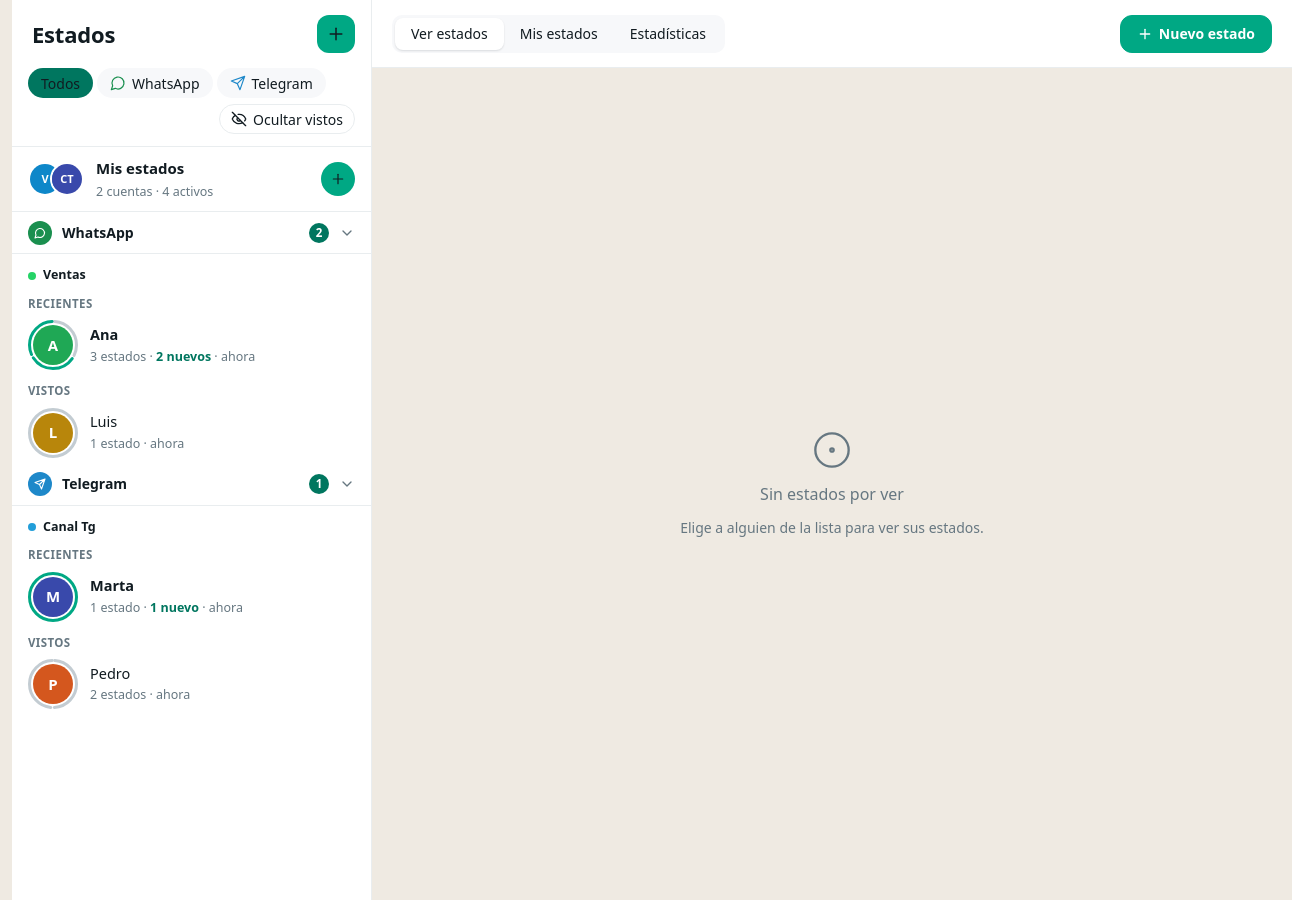
StatusesPage · lista por canal y cuenta › plegar un canal oculta a sus autores y lo anuncia con aria-expanded
Expected: the text "Ana" is shown, [90,324,118,344]
Click the button "WhatsApp 2". click: click(98, 232)
box: [12,212,371,254]
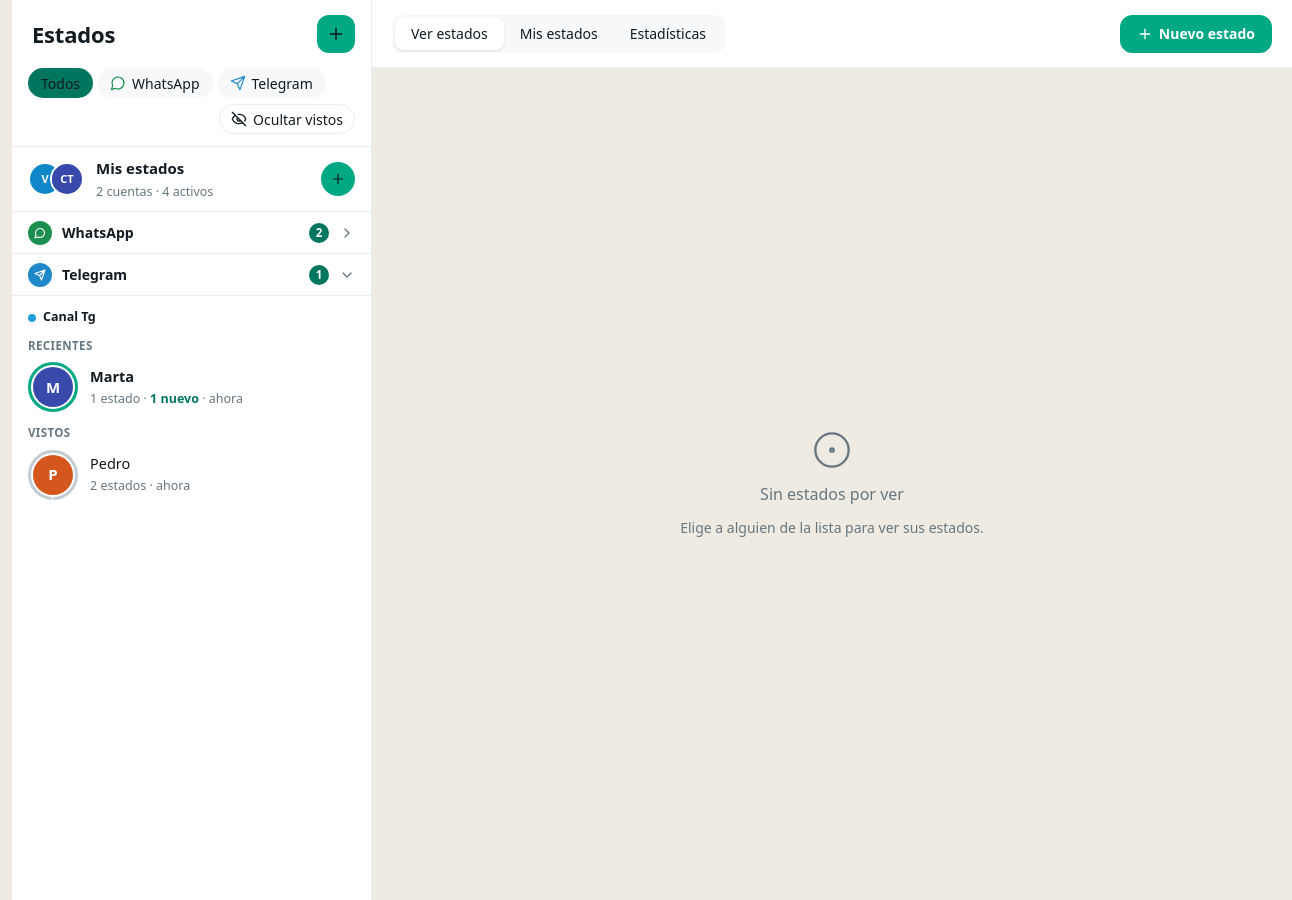
Expected: the text "Marta" is shown, [90,366,134,386]
Result: the button "WhatsApp 2" is collapsed
Click the button "WhatsApp 2". click: click(98, 232)
box: [12,212,371,254]
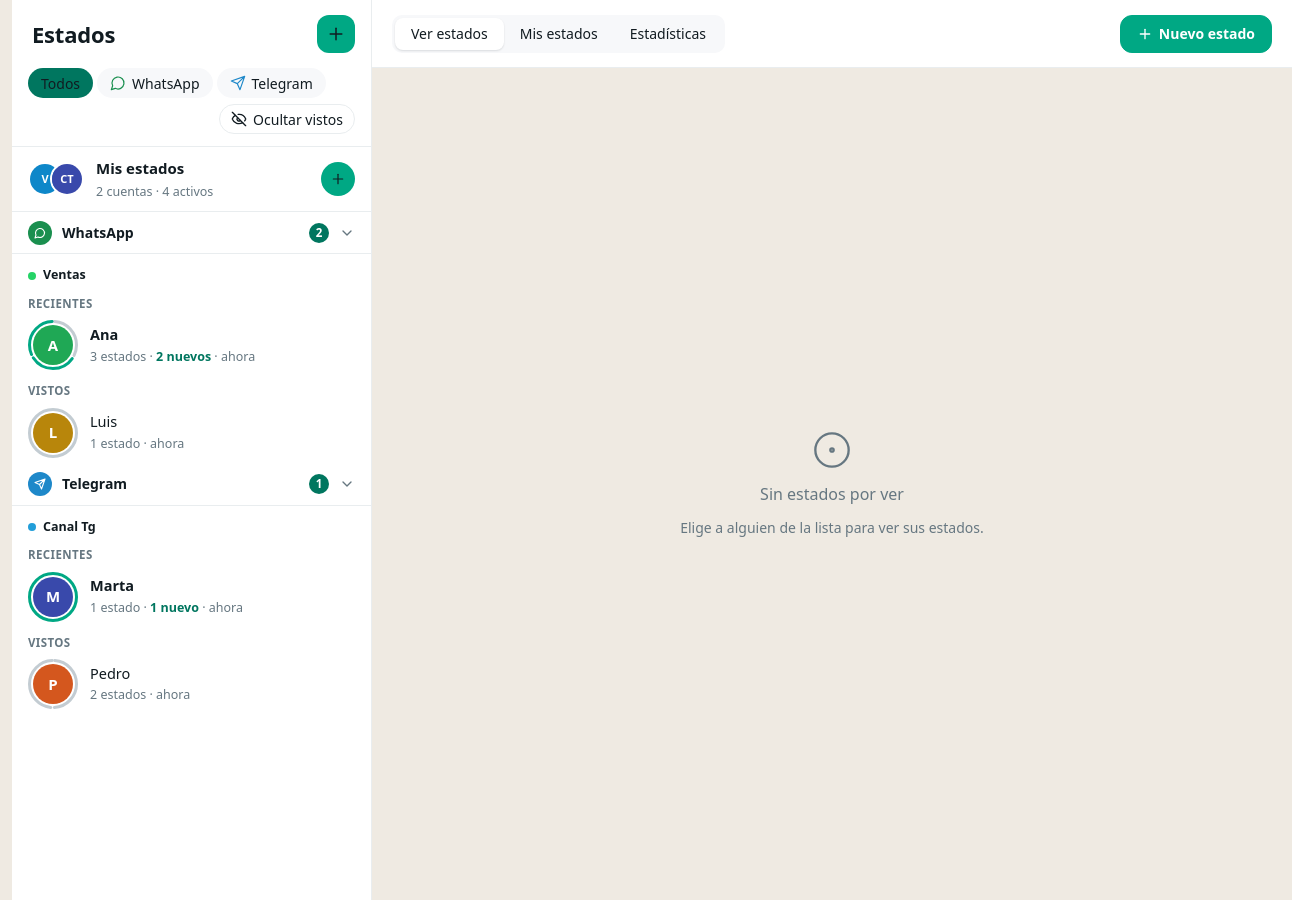
Result: the text "Ana" is shown at [90,324,118,344]
